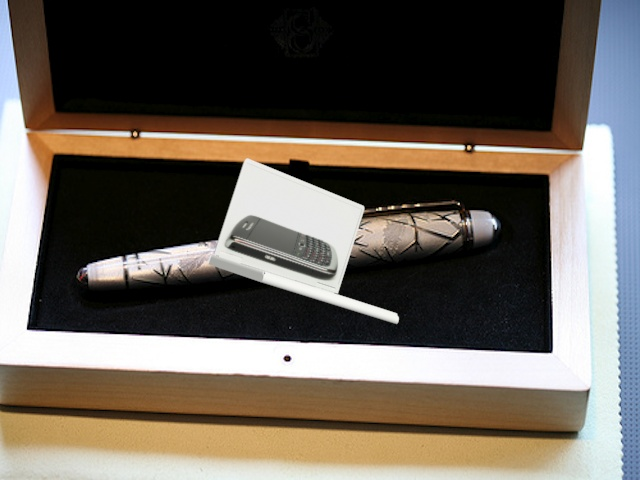laptop_computer: (209, 153, 400, 328)
